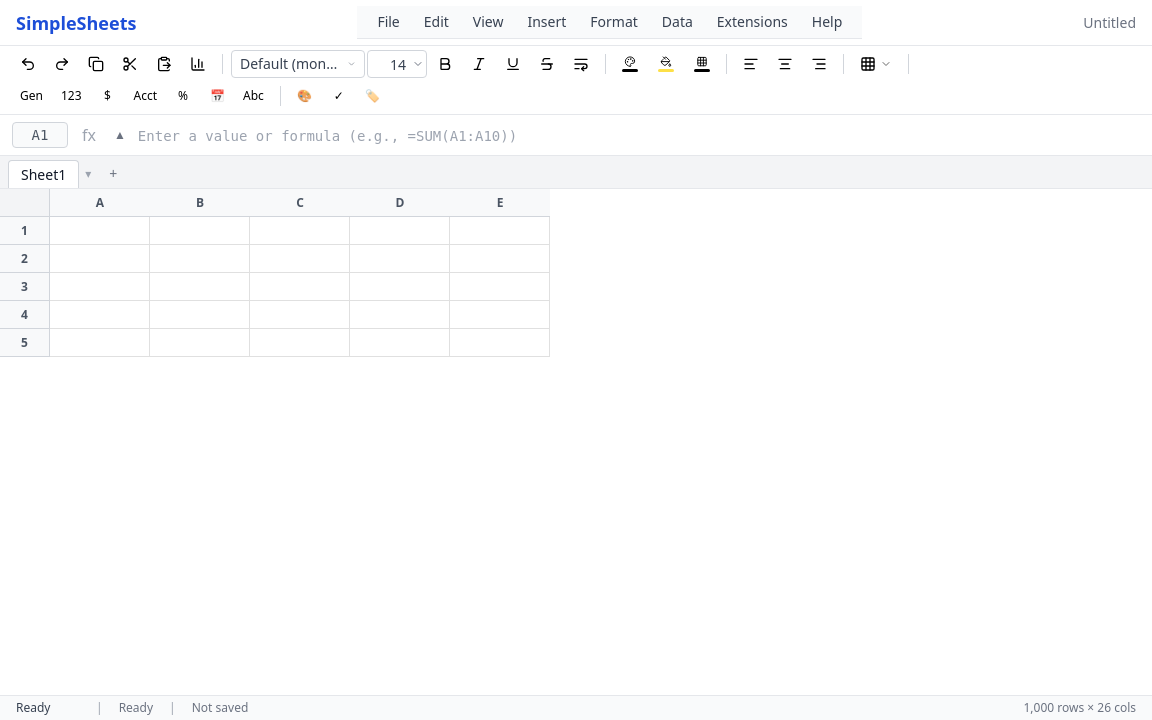
Test: App - Sheet Operations › copies a sheet
Right-click on Sheet1
Right-click the button "Sheet1" at (44, 174), box left=8, top=160, right=79, bottom=189
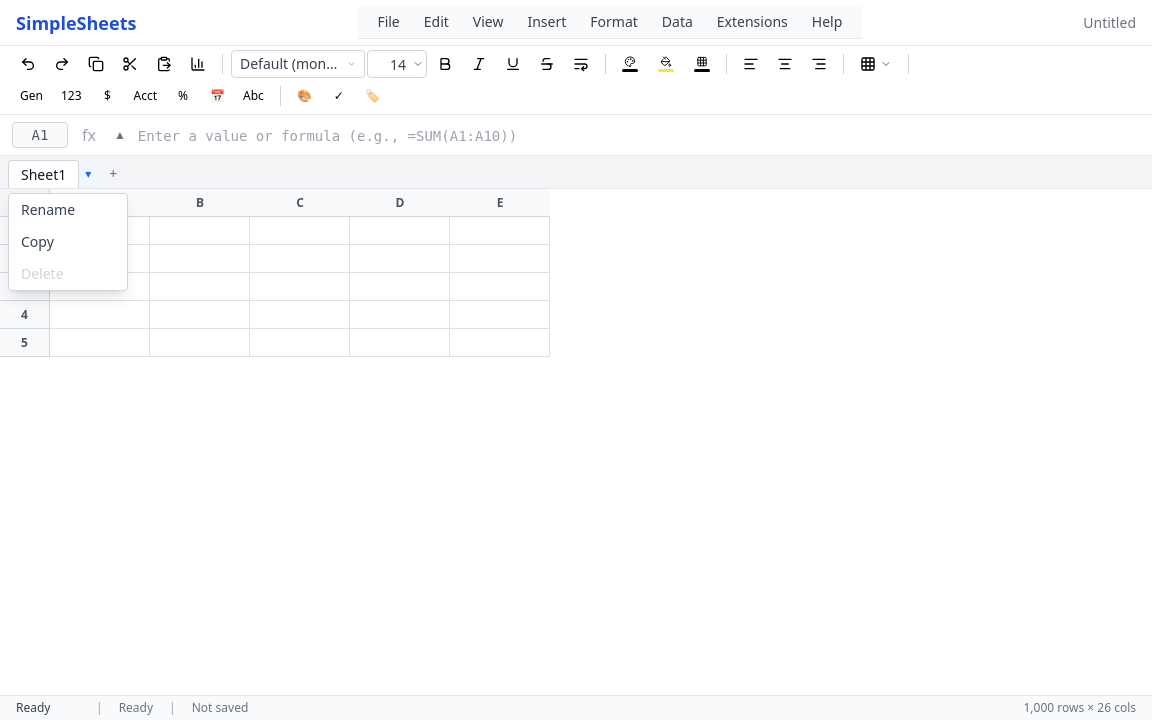
Click Copy
Press the mouse on the button "Copy" at (68, 242), box left=9, top=226, right=127, bottom=258
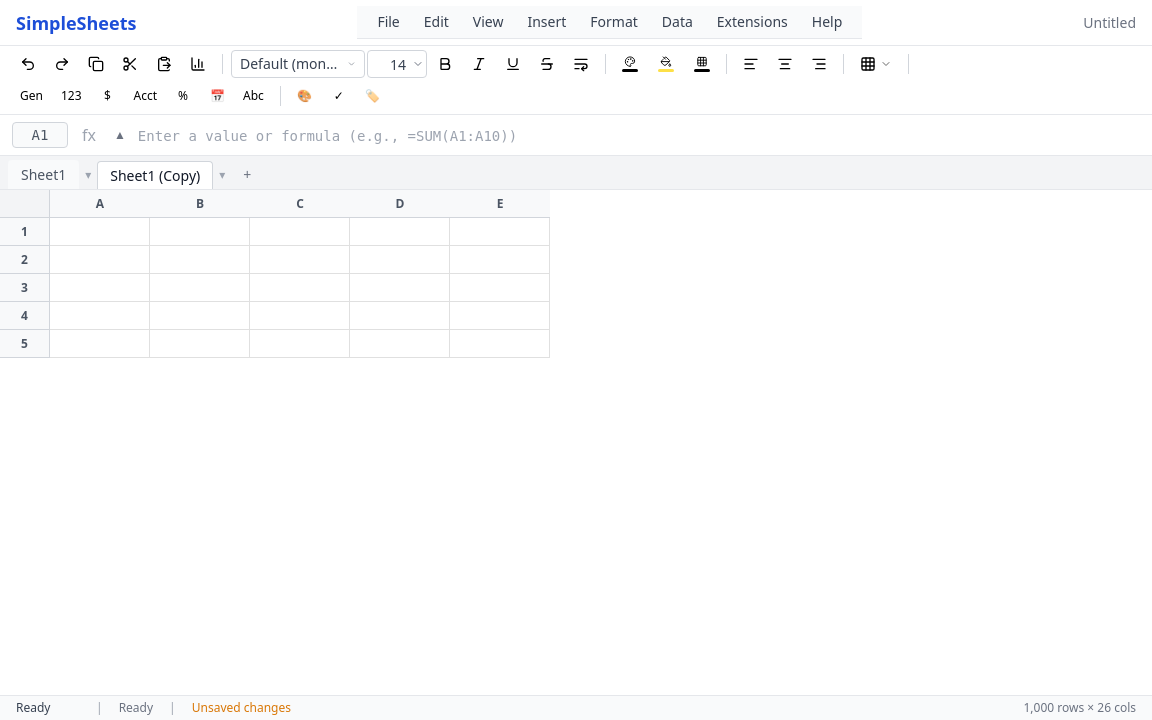
Expected: the button "Sheet1 (Copy)" is shown, left=97, top=161, right=213, bottom=190
